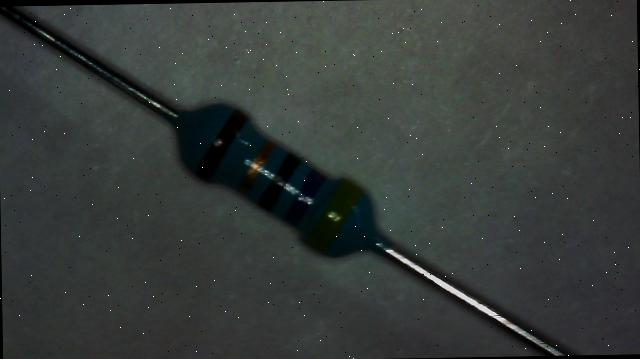black: (258, 152, 302, 210)
brown: (196, 108, 248, 180)
gold: (238, 140, 276, 194)
resistor: (162, 74, 393, 280)
violet: (284, 167, 326, 225)
yellow: (306, 179, 364, 252)
